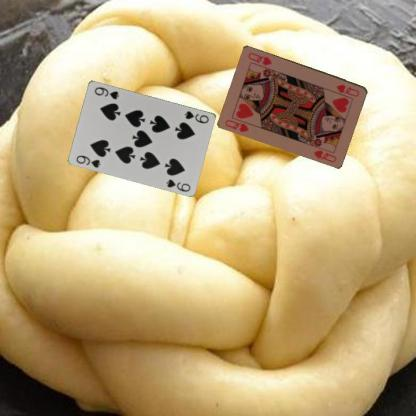9s: (182, 108, 210, 125), (74, 152, 102, 168)
Qh: (223, 116, 250, 134), (334, 82, 360, 98)
